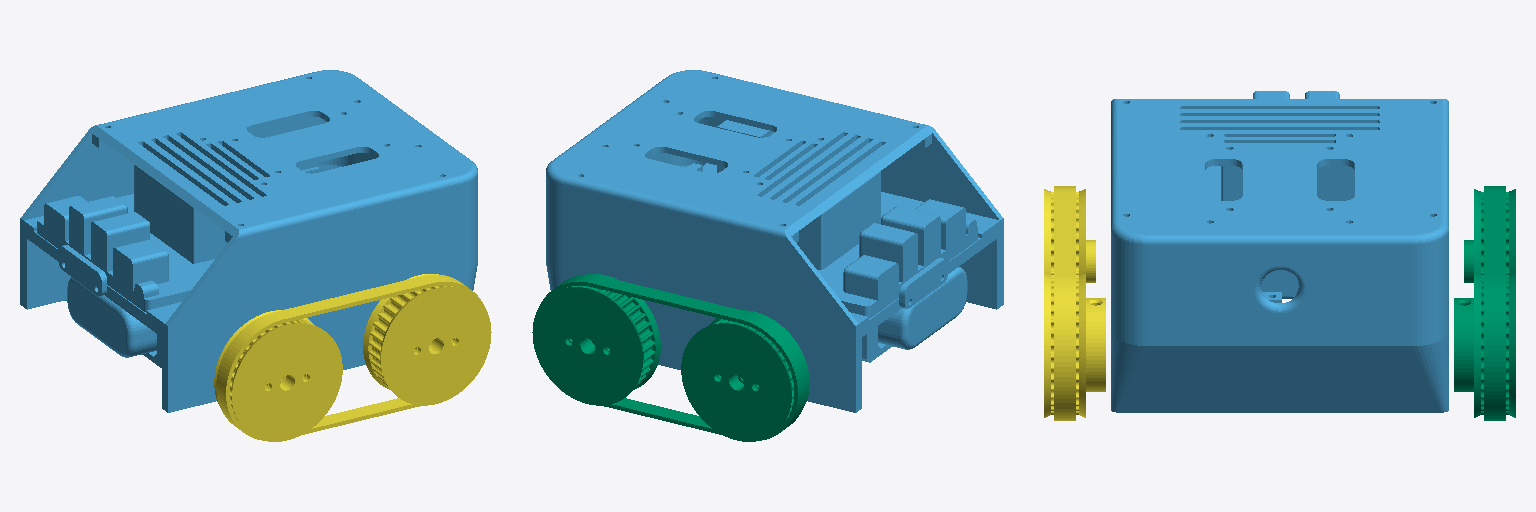
URDF robot description (road100):
<?xml version="1.0" ?>
<robot name="road100" xmlns:xacro="http://www.ros.org/wiki/xacro">

  <link name="base_footprint" />

  <link name="base_link">
    <inertial>
      <origin xyz="0.0 0.0 0.0" rpy="0 0 0"/>
      <mass value="2.9675633650363595"/>
      <inertia ixx="0.011642" iyy="0.035651" izz="0.038255" ixy="0.000148" iyz="-9.3e-05" ixz="0.000342"/>
    </inertial>
    <visual>
      <origin xyz="0 0 0" rpy="0 0 0"/>
      <geometry>
        <mesh filename="package://road100_description/meshes/base_link.stl" scale="0.001 0.001 0.001"/>
      </geometry>
    </visual>
    <collision>
      <origin xyz="0 0 0" rpy="0 0 0"/>
      <geometry>
        <mesh filename="package://road100_description/meshes/base_link.stl" scale="0.001 0.001 0.001"/>
      </geometry>
    </collision>
  </link>

  <joint name="base_footprint_joint" type="fixed">
    <parent link="base_footprint"/>
    <child link="base_link"/>
    <origin xyz="0 0 0" rpy="0 0 0"/>
  </joint>

  <link name="left_wheel_set">
    <visual>
      <origin xyz="0 0 0" rpy="0 0 0"/>
      <geometry>
        <mesh filename="package://road100_description/meshes/left_wheel_set.stl" scale="0.001 0.001 0.001"/>
      </geometry>
    </visual>
  </link>

  <joint name="left_wheel_set_joint" type="fixed">
    <parent link="base_link"/>
    <child link="left_wheel_set"/>
    <origin xyz="0 0 0" rpy="0 0 0"/>
  </joint>

  <link name="right_wheel_set">
    <visual>
      <origin xyz="0 0 0" rpy="0 0 0"/>
      <geometry>
        <mesh filename="package://road100_description/meshes/right_wheel_set.stl" scale="0.001 0.001 0.001"/>
      </geometry>
    </visual>
  </link>

  <joint name="right_wheel_set_joint" type="fixed">
    <parent link="base_link"/>
    <child link="right_wheel_set"/>
    <origin xyz="0 0 0" rpy="0 0 0"/>
  </joint>


  <link name="left_front_wheel">
    <inertial>
      <origin xyz="0 0 0" rpy="0 1.5707 1.5707"/>
      <mass value="0.1"/>
      <inertia ixx="0.000025" ixy="0" ixz="0" iyy="0.000025" iyz="0" izz="0.000045"/>
    </inertial>
    <collision>
      <origin xyz="0 0 0" rpy="0 1.5707 1.5707"/>
      <geometry>
        <cylinder length="0.0165" radius="0.03"/>
      </geometry>
    </collision>
  </link>
  <joint name="left_front_wheel_joint" type="continuous">
    <parent link="base_link"/>
    <child link="left_front_wheel"/>
    <origin xyz="0.0395 0.08 0" rpy="0 0 0"/>
    <axis xyz="0 1 0" />
    <limit effort="10" velocity="100" />
  </joint>

  <link name="right_front_wheel">
    <inertial>
      <origin xyz="0 0 0" rpy="0 1.5707 1.5707"/>
      <mass value="0.1"/>
      <inertia ixx="0.000025" ixy="0" ixz="0" iyy="0.000025" iyz="0" izz="0.000045"/>
    </inertial>
    <collision>
      <origin xyz="0 0 0" rpy="0 1.5707 1.5707"/>
      <geometry>
        <cylinder length="0.0165" radius="0.03"/>
      </geometry>
    </collision>
  </link>
  <joint name="right_front_wheel_joint" type="continuous">
    <parent link="base_link"/>
    <child link="right_front_wheel"/>
    <origin xyz="0.0395 -0.08 0" rpy="0 0 0"/>
    <axis xyz="0 1 0" />
    <limit effort="10" velocity="100" />
  </joint>

  <link name="left_rear_wheel">
    <inertial>
      <origin xyz="0 0 0" rpy="0 1.5707 1.5707"/>
      <mass value="0.1"/>
      <inertia ixx="0.000025" ixy="0" ixz="0" iyy="0.000025" iyz="0" izz="0.000045"/>
    </inertial>
    <collision>
      <origin xyz="0 0 0" rpy="0 1.5707 1.5707"/>
      <geometry>
        <cylinder length="0.0165" radius="0.03"/>
      </geometry>
    </collision>
  </link>
  <joint name="left_rear_wheel_joint" type="continuous">
    <parent link="base_link"/>
    <child link="left_rear_wheel"/>
    <origin xyz="-0.0395 0.08 0" rpy="0 0 0"/>
    <axis xyz="0 1 0" />
    <limit effort="10" velocity="100" />
  </joint>

  <link name="right_rear_wheel">
    <inertial>
      <origin xyz="0 0 0" rpy="0 1.5707 1.5707"/>
      <mass value="0.1"/>
      <inertia ixx="0.000025" ixy="0" ixz="0" iyy="0.000025" iyz="0" izz="0.000045"/>
    </inertial>
    <collision>
      <origin xyz="0 0 0" rpy="0 1.5707 1.5707"/>
      <geometry>
        <cylinder length="0.0165" radius="0.03"/>
      </geometry>
    </collision>
  </link>
  <joint name="right_rear_wheel_joint" type="continuous">
    <parent link="base_link"/>
    <child link="right_rear_wheel"/>
    <origin xyz="-0.0395 -0.08 0" rpy="0 0 0"/>
    <axis xyz="0 1 0" />
    <limit effort="10" velocity="100" />
  </joint>

  <link name="lidar_link">
    <inertial>
      <mass value="0.01"/>
      <inertia ixx="0.00004" ixy="0" ixz="0" iyy="0.00004" iyz="0" izz="0.00004"/>
    </inertial>
    <collision>
      <origin rpy="0 0 0" xyz="0 0 0"/>
      <geometry>
        <sphere radius="0.01"/>
      </geometry>
    </collision>
  </link>
  <joint name="lidar_joint" type="fixed">
    <origin xyz="0 0 0.083" rpy="0 0 0"/>
    <parent link="base_link"/>
    <child link="lidar_link"/>
  </joint>

  <link name="camera_link">
    <inertial>
      <mass value="0.01"/>
      <inertia ixx="0.00004" ixy="0" ixz="0" iyy="0.00004" iyz="0" izz="0.00004"/>
    </inertial>
    <collision>
      <origin rpy="0 0 0" xyz="0 0 0"/>
      <geometry>
        <sphere radius="0.01"/>
      </geometry>
    </collision>
  </link>
  <joint name="camera_joint" type="fixed">
    <origin xyz="0.08 0 0.045" rpy="0 0 0"/>
    <parent link="base_link"/>
    <child link="camera_link"/>
  </joint>

</robot>

--- Facts derived from the render (not from the file) ---
3 views of the same robot in one strip: view 1: azimuth 30°, elevation 25°; view 2: azimuth 150°, elevation 25°; view 3: azimuth 270°, elevation 25° (orthographic).
Robot: road100 — 10 links, 9 joints (4 continuous, 5 fixed); root link base_footprint; default pose: every joint at zero.
Links seen in each view (by area): view 1: base_link, right_wheel_set; view 2: base_link, left_wheel_set; view 3: base_link, left_wheel_set, right_wheel_set.
Boxes of the visible links, x1,y1,x2,y2 form: base_link: (20, 70, 477, 412); right_wheel_set: (214, 274, 491, 441); base_link: (546, 70, 1003, 412); left_wheel_set: (532, 274, 809, 441); base_link: (1111, 91, 1448, 412); left_wheel_set: (1454, 186, 1515, 420); right_wheel_set: (1044, 186, 1105, 420).
Size in the robot's own frame: 0.174 by 0.189 by 0.0985 metres.
3 mesh visuals loaded from 3 distinct referenced files (3 binary STL).